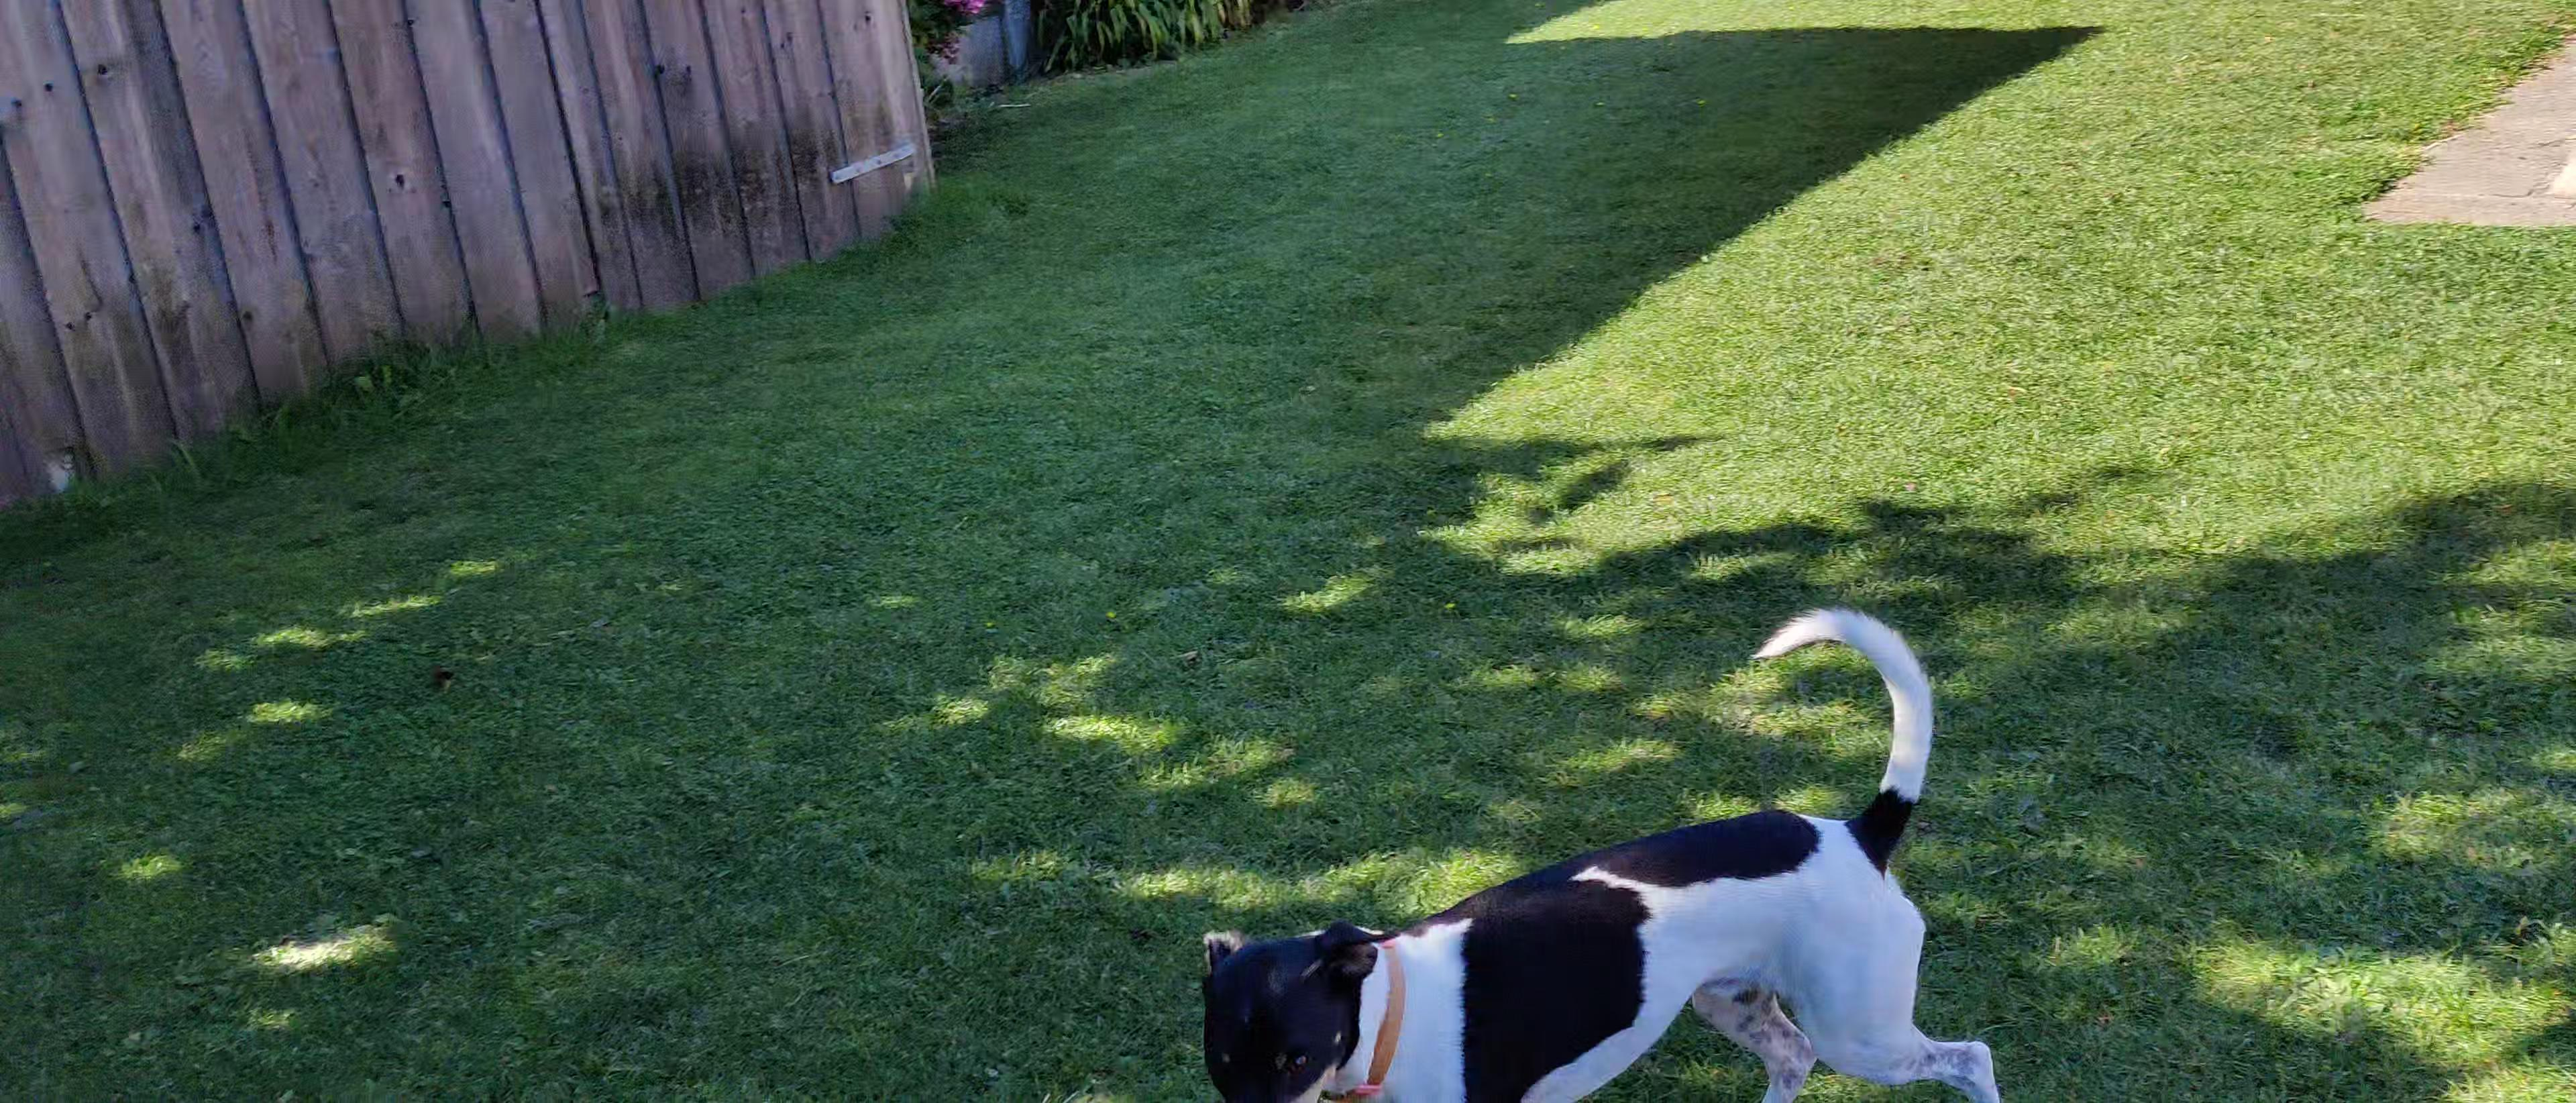Dog: (1175, 584, 2017, 1103)
